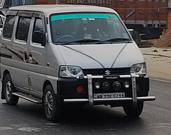Auto: (0, 2, 157, 123)
